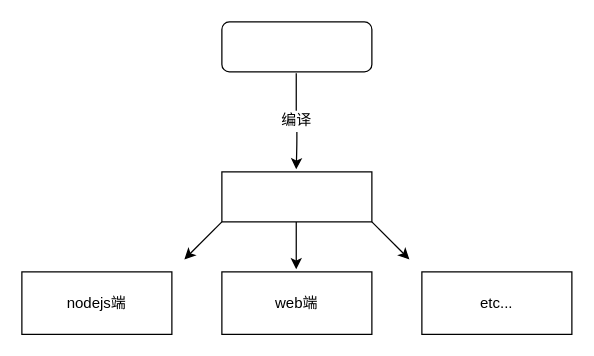
Some shapes in this 594 by 356 pixel diagram are drawn without their labels. The shapes that lost their labels are listed below. From the top down, each one's centre as x and y in pixels, then its label:
At (296,46): "后端加密模块".
At (296,196): "wasm模块".
